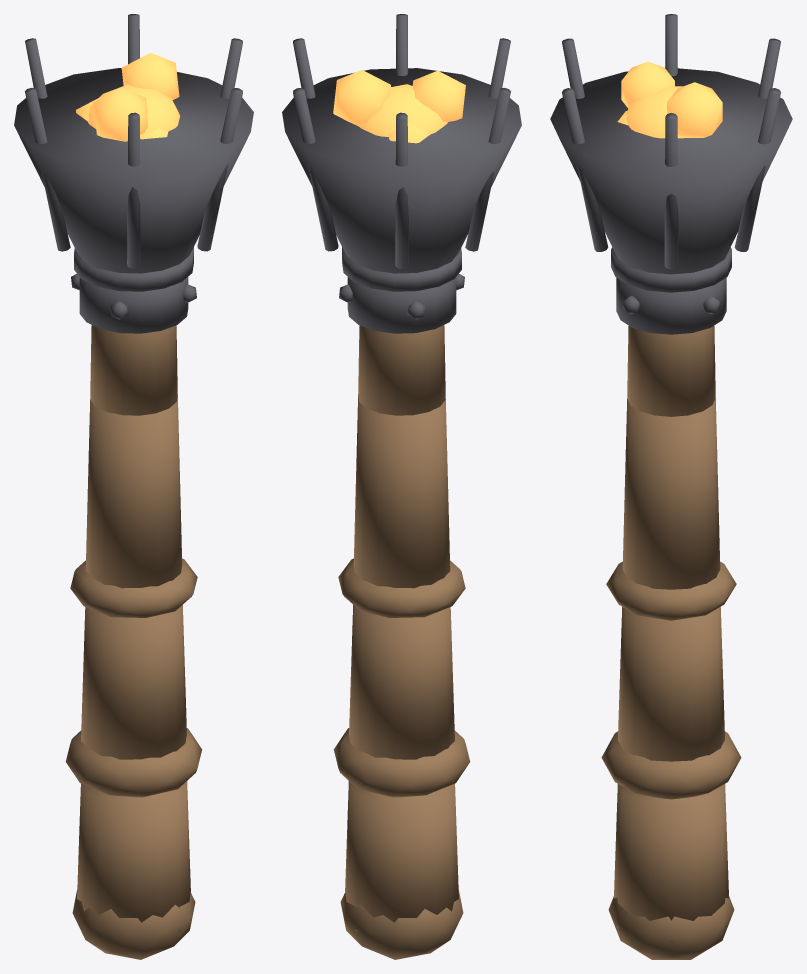
File: torch.glb
3 renders of one model, left to right at view 1: azimuth 30°, elevation 25°; view 2: azimuth 150°, elevation 25°; view 3: azimuth 270°, elevation 25°, orthographic.
Parts seen in each view (by area): view 1: wood, iron, coals; view 2: wood, iron, coals; view 3: wood, iron, coals.
Boxes of the visible parts, x1,y1,x2,y2 form: wood: [65, 325, 202, 959]; iron: [14, 14, 253, 333]; coals: [76, 53, 179, 141]; wood: [333, 325, 470, 959]; iron: [282, 14, 521, 333]; coals: [333, 70, 465, 143]; wood: [601, 326, 741, 959]; iron: [550, 14, 792, 334]; coals: [617, 61, 722, 138].
Bounding box in the file's own units: 0.5386 × 2.11 × 0.52.
